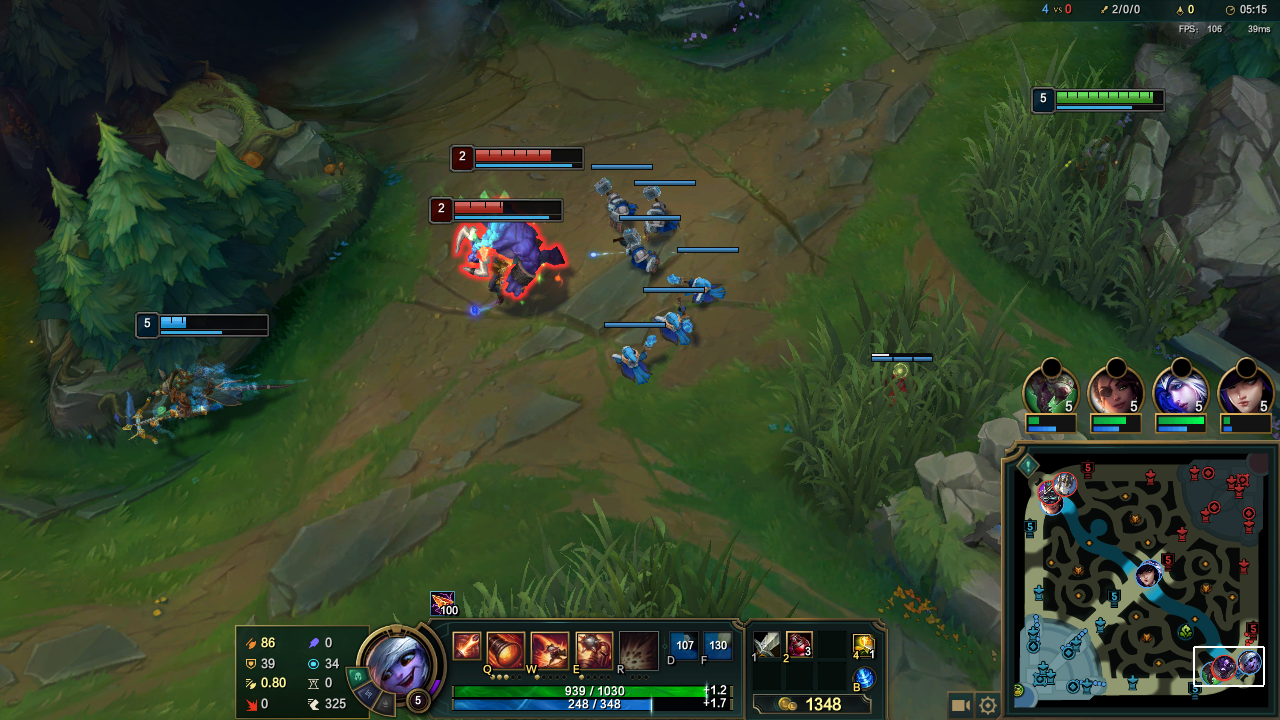DFYX: (474, 143, 570, 170), (446, 203, 547, 223)
WFXB: (669, 259, 735, 302), (610, 332, 662, 386), (588, 177, 644, 226), (635, 185, 689, 235), (654, 295, 696, 350), (617, 228, 660, 276)
